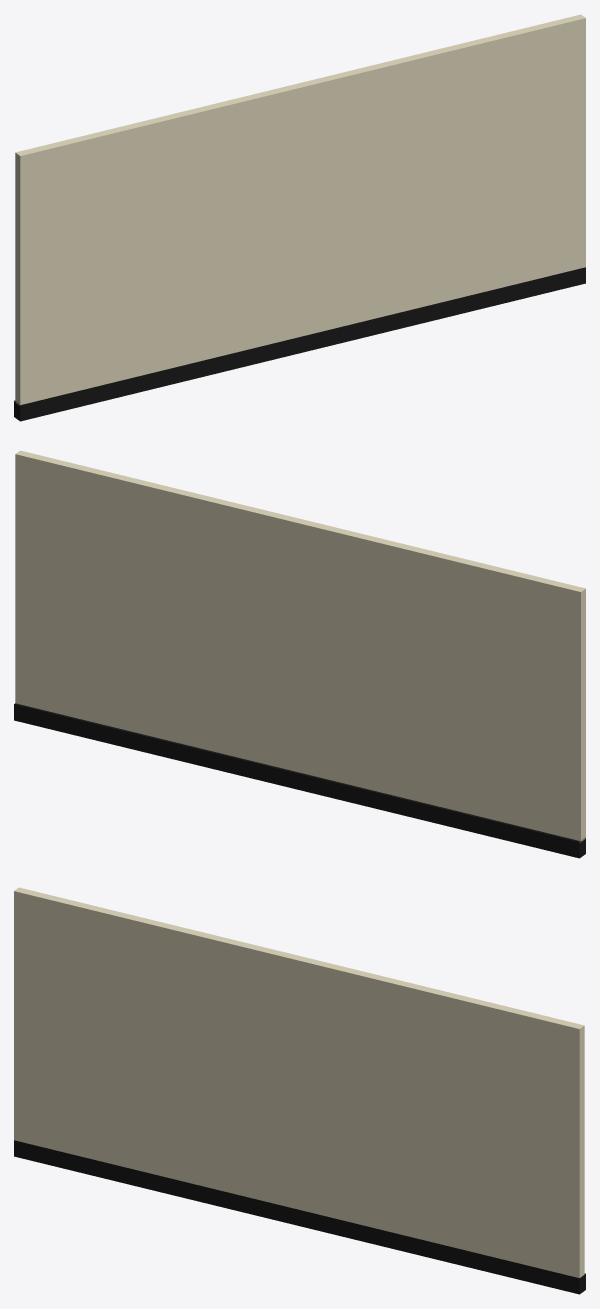
File: Wall 3.FBX
3 views of the same model, one above another, from view 1: azimuth 30°, elevation 25°; view 2: azimuth 150°, elevation 25°; view 3: azimuth 330°, elevation 25° (orthographic).
Parts seen in each view (by area): view 1: Wall 3; view 2: Wall 3; view 3: Wall 3.
Boxes of the visible parts, left/top/right/bottom form: Wall 3: left=14, top=14, right=585, bottom=421; Wall 3: left=14, top=450, right=585, bottom=858; Wall 3: left=14, top=887, right=585, bottom=1294.
Bounding box in the file's own units: 582 × 261 × 11.22.
Materials: 1 (1 with a texture image).
